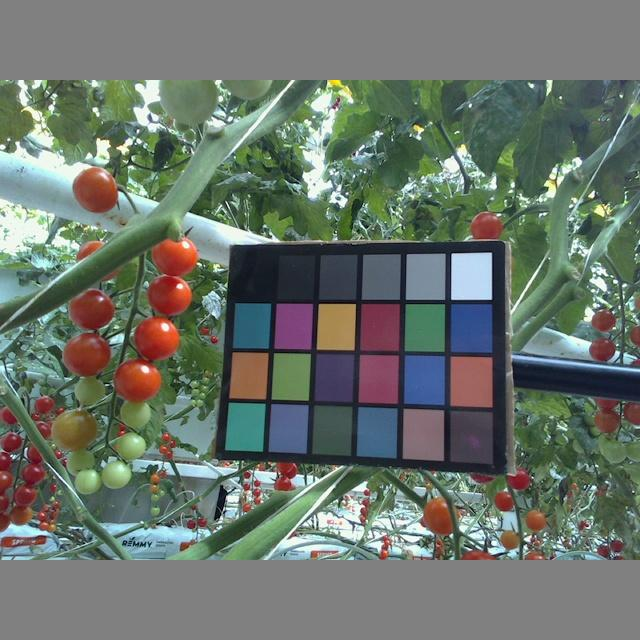green: (159, 81, 219, 127), (118, 395, 152, 427), (72, 373, 107, 403), (64, 447, 96, 478), (115, 431, 146, 461), (101, 459, 131, 488), (602, 437, 631, 464), (75, 467, 101, 495)
pink: (132, 315, 182, 361), (151, 230, 199, 277), (72, 165, 121, 211), (62, 330, 112, 374), (49, 409, 100, 452), (66, 287, 115, 330), (146, 271, 192, 316), (115, 356, 159, 401), (74, 240, 121, 282), (420, 494, 461, 537), (469, 209, 504, 242), (591, 409, 623, 433), (587, 306, 616, 331), (588, 337, 617, 362), (12, 483, 37, 506), (11, 503, 35, 526), (1, 431, 25, 454), (524, 507, 546, 532), (491, 490, 516, 512), (21, 464, 45, 486), (501, 526, 521, 550), (33, 394, 54, 415), (461, 550, 495, 560), (521, 549, 549, 560)
red: (507, 468, 530, 492), (1, 402, 21, 426), (27, 441, 49, 461), (1, 468, 15, 496), (1, 495, 11, 513), (1, 510, 9, 532)
